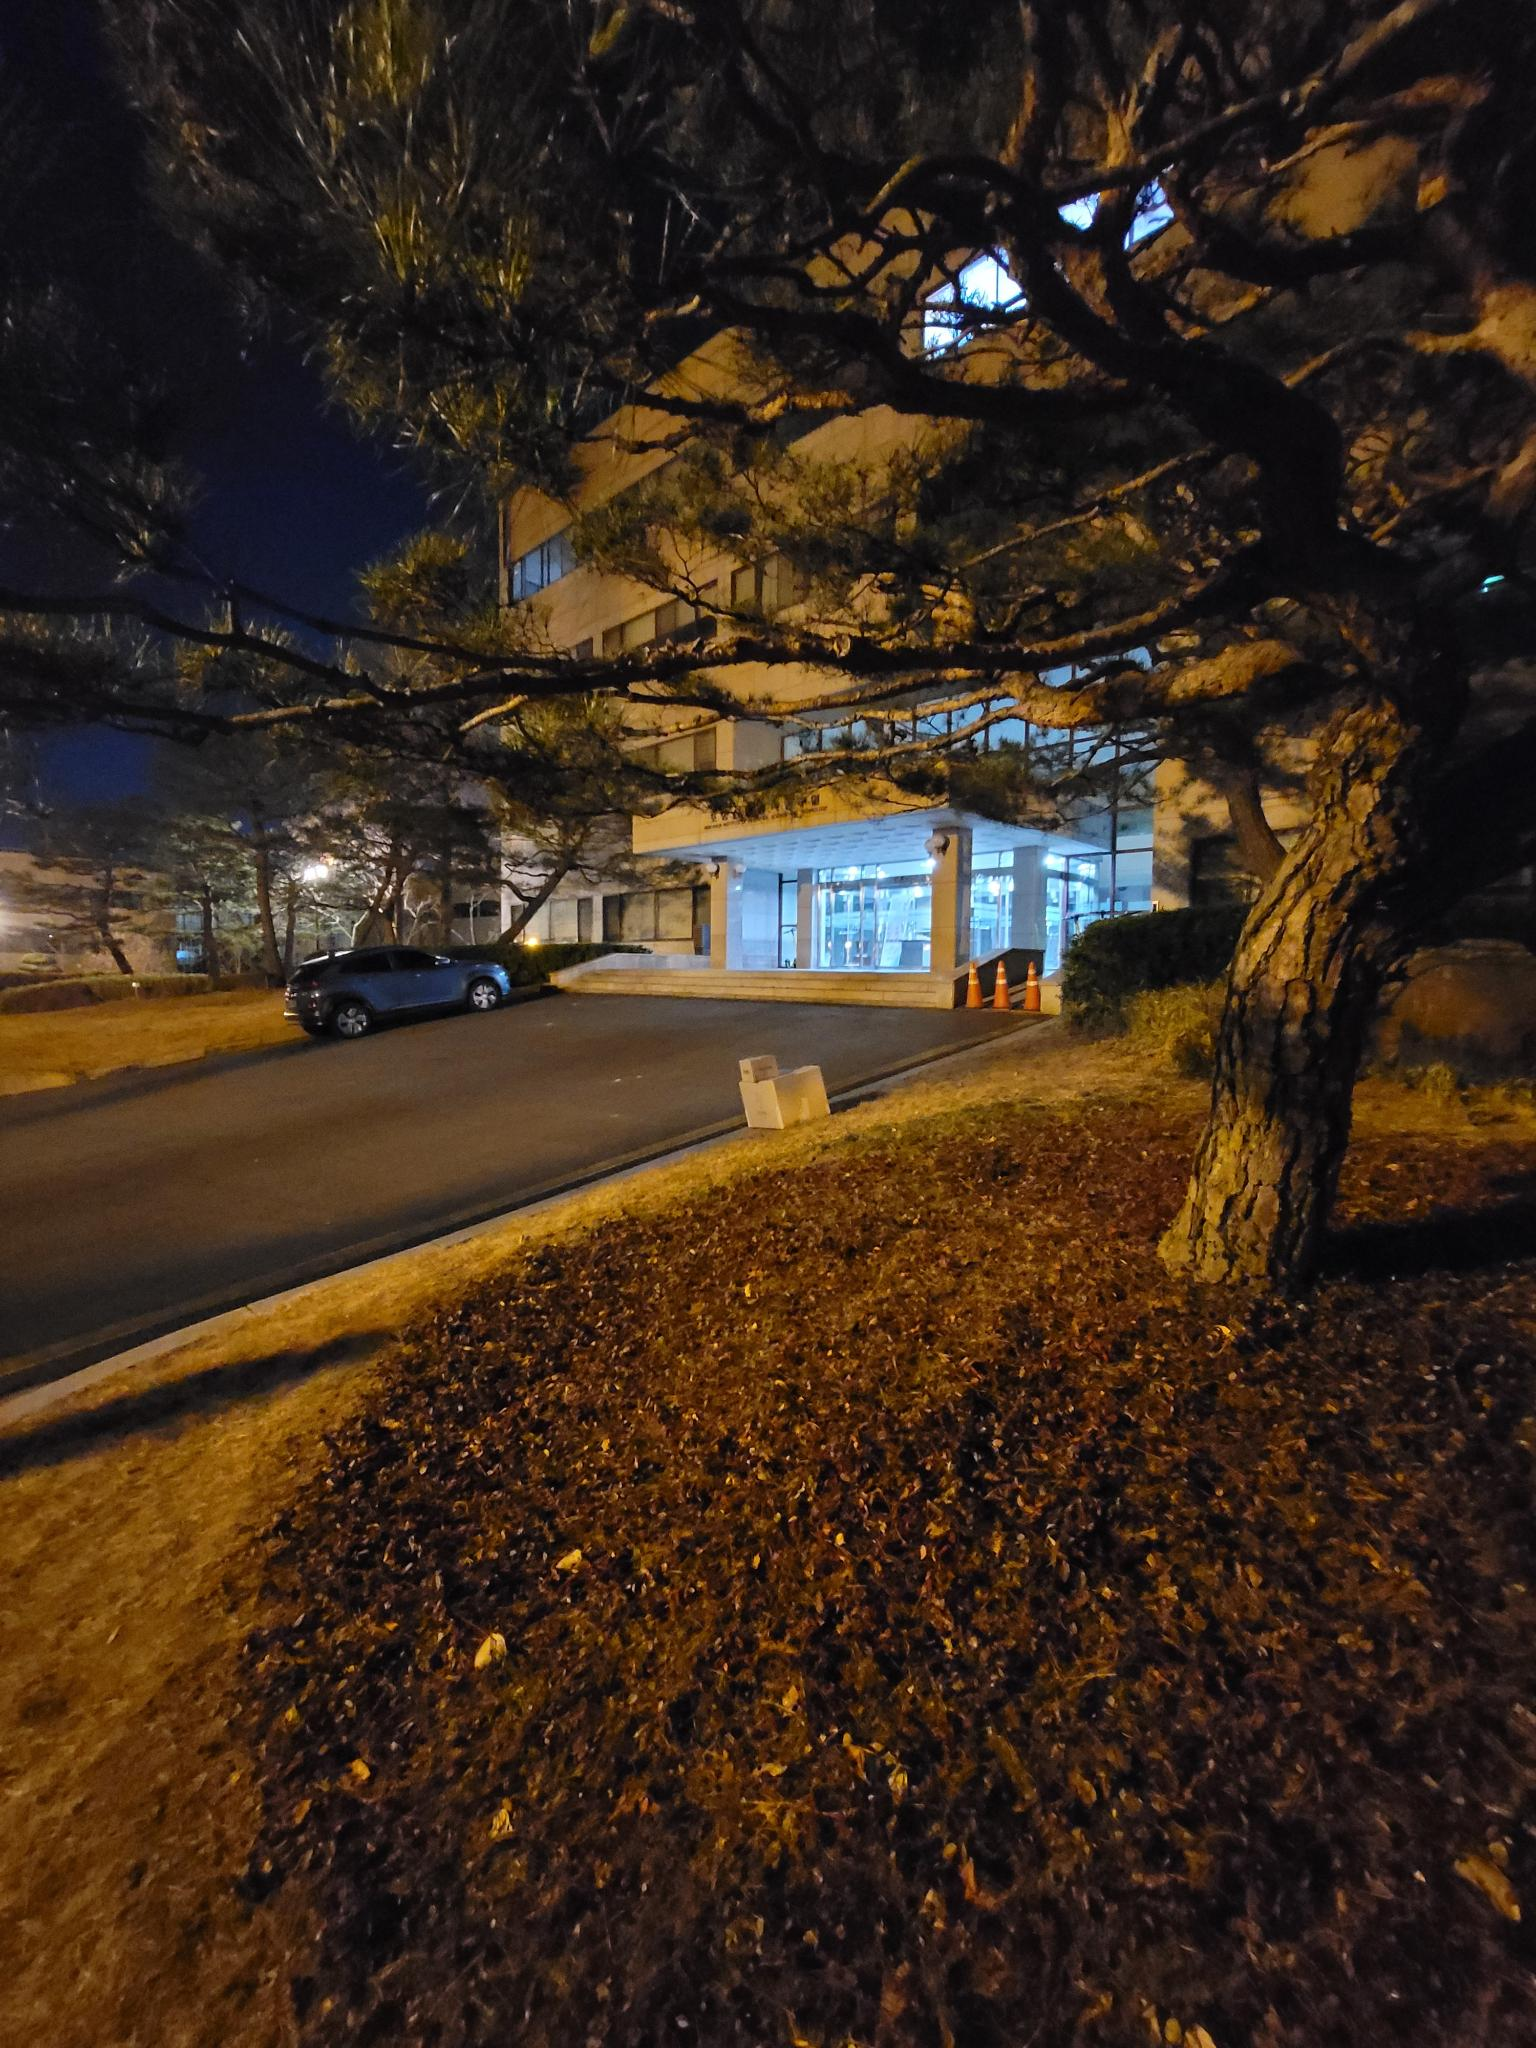Box: (734, 1063, 837, 1132), (729, 1039, 789, 1085)
